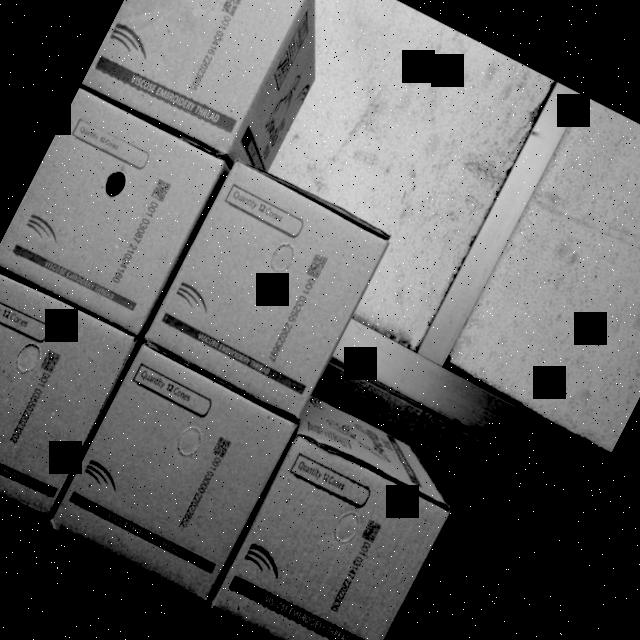box: (144, 158, 392, 420), (49, 344, 298, 600), (0, 88, 224, 335), (207, 431, 454, 640), (83, 0, 314, 155), (0, 267, 136, 519)
